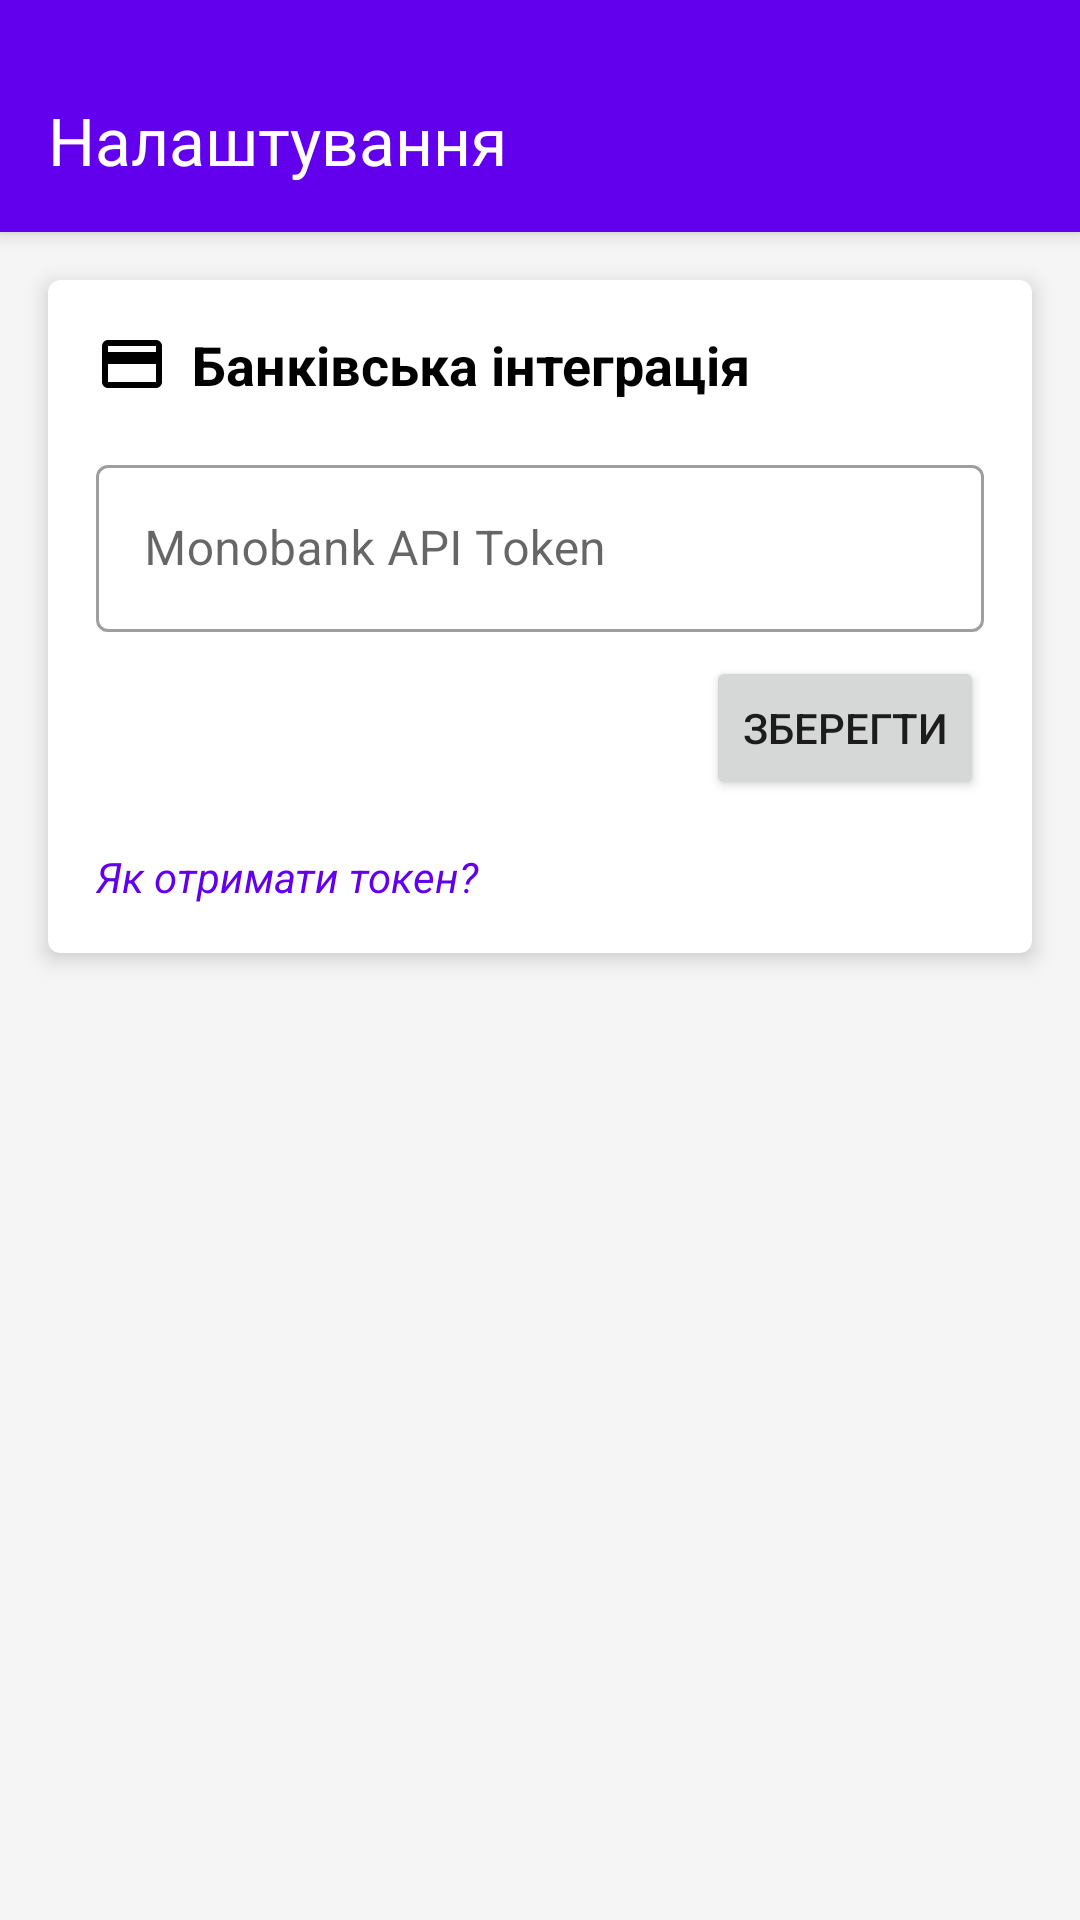

Icon click points for this 1080x1920 phone screenshot, format [x,y]:
credit card: [132,364]
